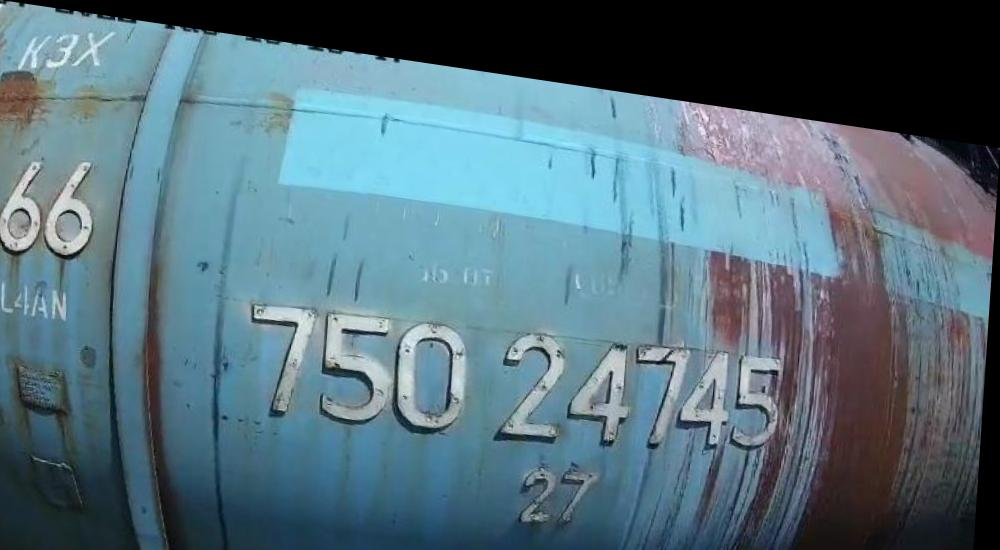Wagon-number: (246, 264, 795, 476)
